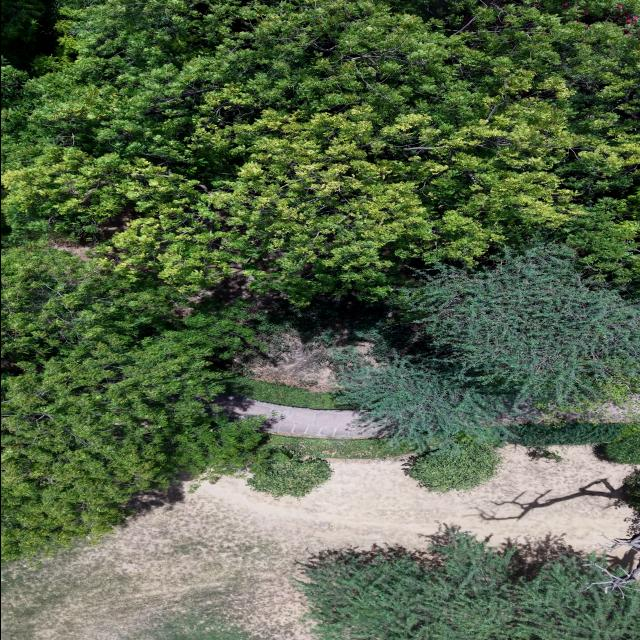DRY_AREA: (1, 446, 631, 639), (217, 392, 385, 437), (216, 393, 384, 437), (217, 393, 380, 437), (238, 332, 335, 391)
VEGETATION_TREE: (1, 0, 639, 558), (1, 0, 639, 302), (1, 246, 264, 559), (337, 243, 639, 473), (338, 244, 639, 449), (402, 245, 639, 406), (298, 532, 639, 639), (336, 351, 629, 455), (337, 349, 531, 450), (242, 293, 396, 367), (248, 434, 411, 497), (585, 468, 639, 598), (404, 442, 500, 491), (228, 375, 350, 408), (248, 449, 331, 497), (1, 0, 57, 69), (263, 434, 413, 458), (141, 610, 253, 639), (509, 421, 636, 446), (584, 559, 639, 598), (604, 430, 639, 463), (623, 469, 639, 512)
